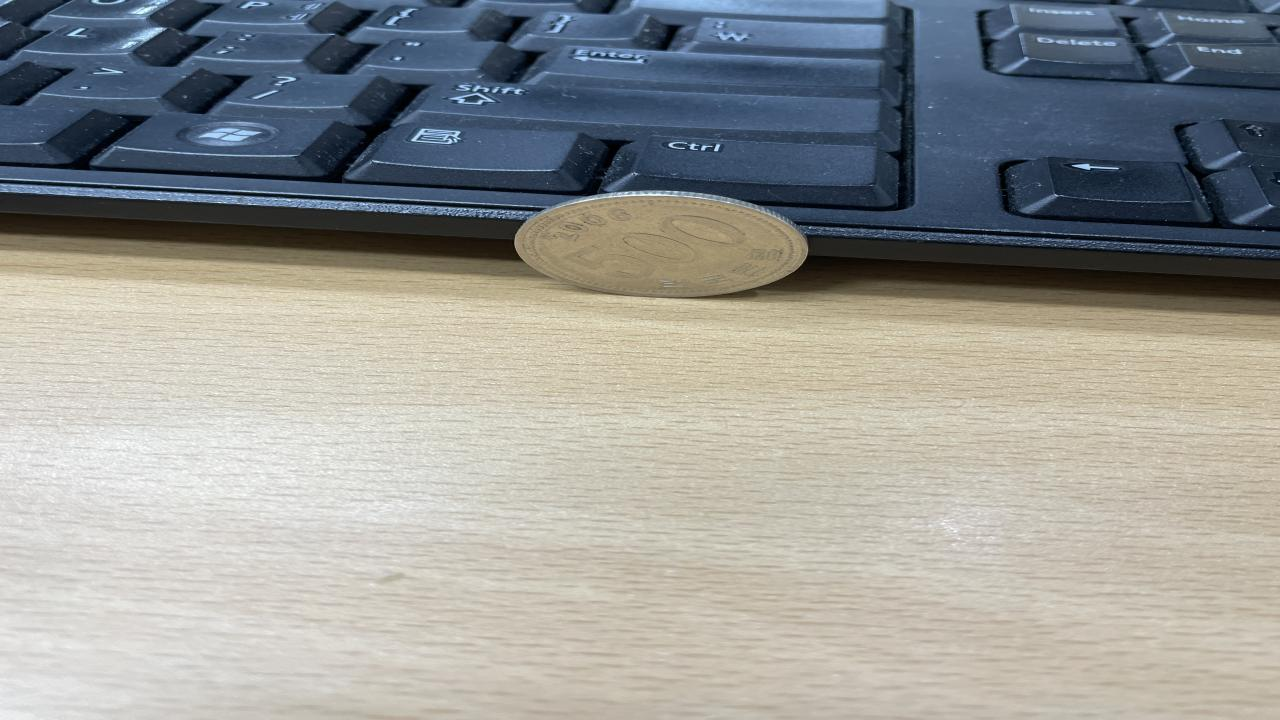coin: (513, 188, 819, 300)
